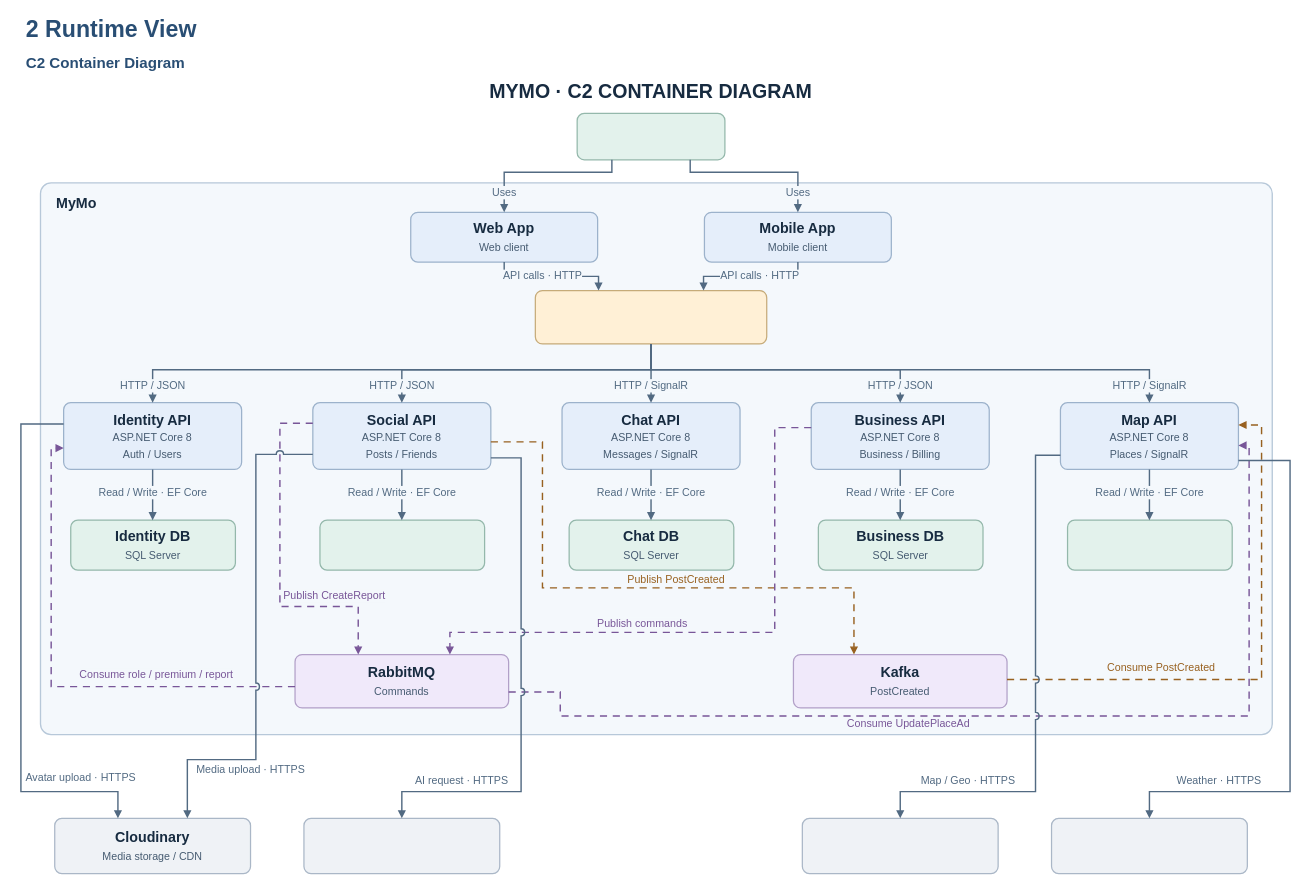
The diagram is 1313 pixels wide and 889 high, and some of its shapes have lost their labels. Each missing label, with the centre of its shape:
"AI Service AI assistant" goes at point (401, 845).
"API Gateway YARP" goes at point (650, 317).
"Map DB SQL Server" goes at point (1149, 544).
"Mapbox Maps / Geolocation" goes at point (899, 845).
"Open-Meteo Weather" goes at point (1149, 845).
"Social DB SQL Server" goes at point (402, 544).
"User Person" goes at point (650, 136).
